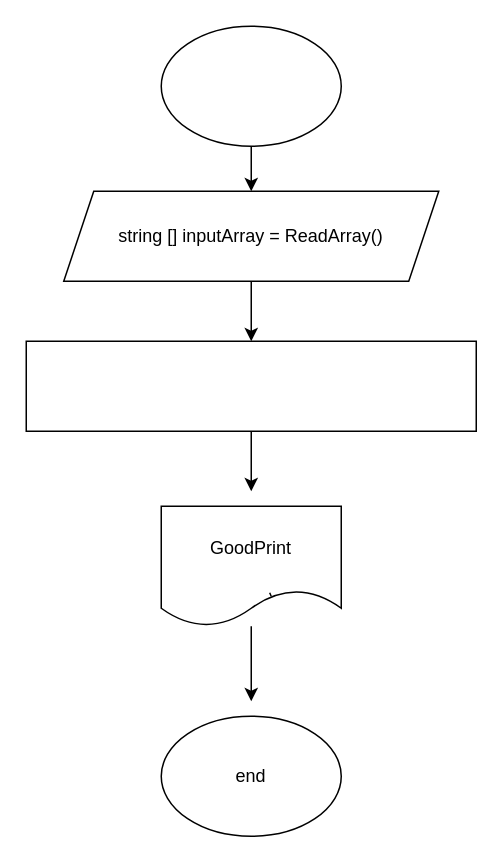
This 503x863 diagram has some shape labels left out. Each missing label, with the centre of its shape:
start: pixel 250 85
string [] result = FilterArrayByLength(inputArray, 3): pixel 250 385
